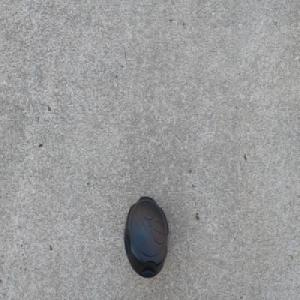FuelCap: (122, 193, 169, 281)
